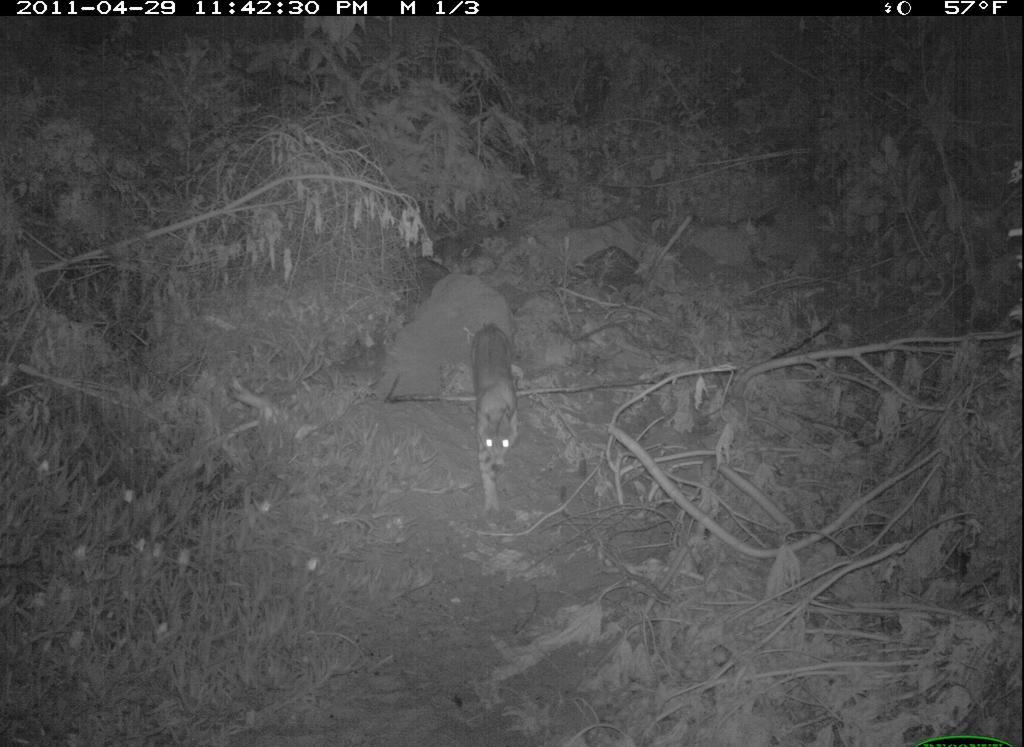bobcat: (466, 319, 532, 520)
